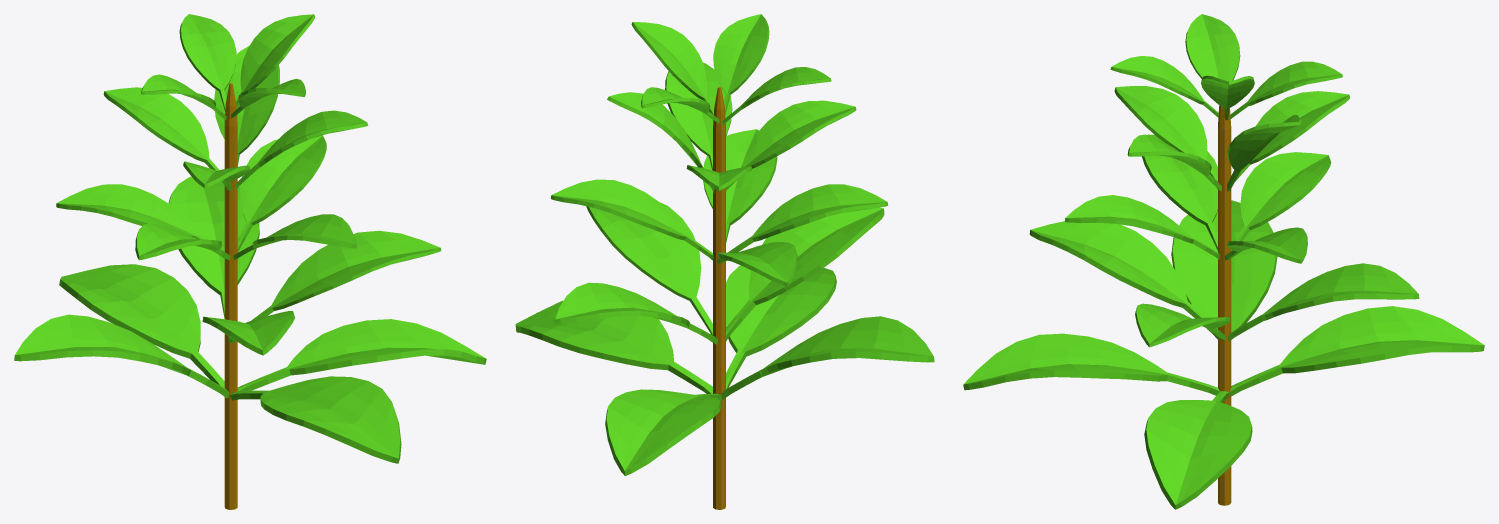
Rendered from Plant_6a.fbx.
The picture shows the model from 3 angles, left to right: view 1: azimuth 30°, elevation 25°; view 2: azimuth 150°, elevation 25°; view 3: azimuth 270°, elevation 25°; orthographic projection.
Parts seen in each view (by area): view 1: Plant_6a; view 2: Plant_6a; view 3: Plant_6a.
Boxes of the visible parts, x1=… form: Plant_6a: x1=14, y1=14, x2=486, y2=509; Plant_6a: x1=515, y1=14, x2=934, y2=509; Plant_6a: x1=963, y1=14, x2=1484, y2=509.
Bounding box in the file's own units: 0.7335 × 0.7363 × 0.7533.
